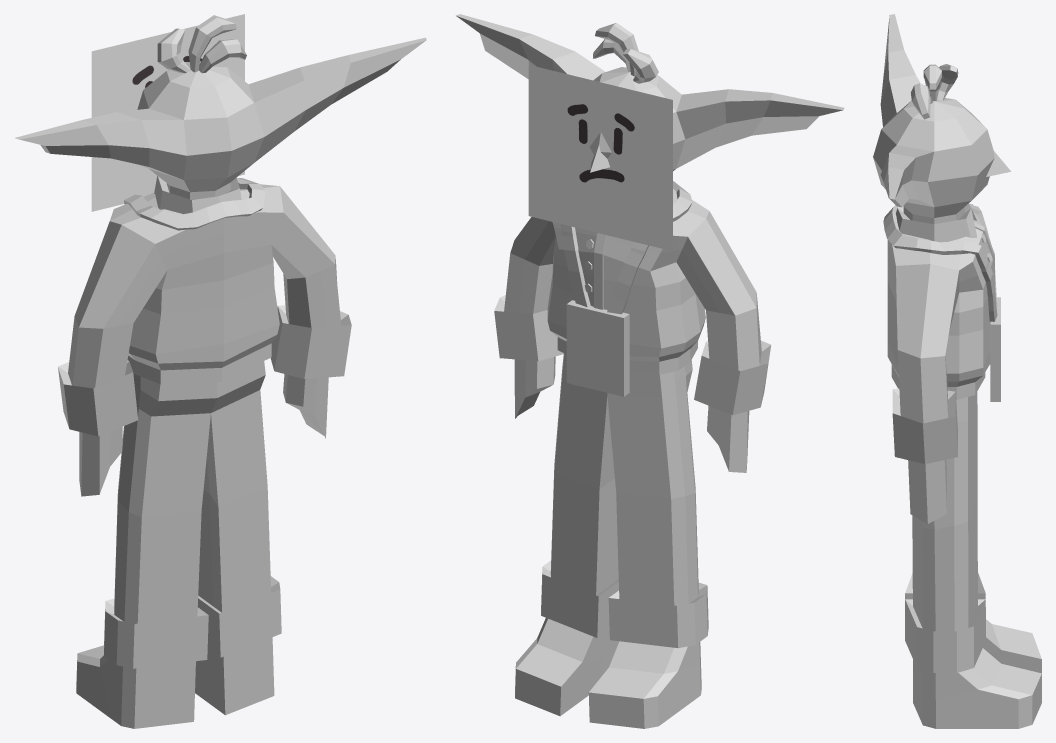
The model's file is goblin pose1.fbx.
3 renders of one model, left to right at view 1: azimuth 30°, elevation 25°; view 2: azimuth 150°, elevation 25°; view 3: azimuth 270°, elevation 25°, orthographic. The views are drawn at different scales.
Visible parts, largest first — view 1: Body, Face, Badge, Collar; view 2: Body, Face, Badge; view 3: Body, Face, Badge, Collar.
Boxes of the visible parts, x1,y1,x2,y2 form: Body: [58, 178, 351, 728]; Face: [15, 14, 426, 211]; Badge: [124, 178, 265, 230]; Collar: [154, 176, 241, 214]; Body: [494, 189, 771, 728]; Face: [455, 14, 844, 251]; Badge: [560, 181, 692, 396]; Body: [887, 203, 1041, 728]; Face: [873, 14, 1010, 224]; Badge: [883, 204, 1000, 401]; Collar: [896, 203, 976, 242].
Size of the model in its own units: 537 by 861 by 207.
